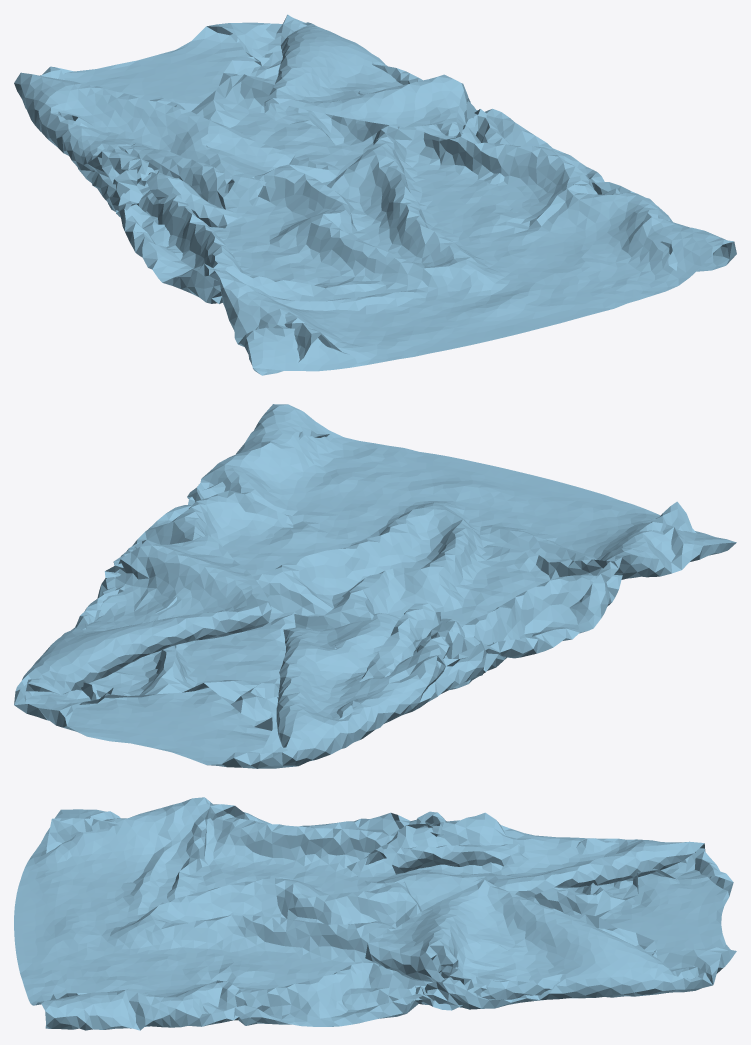
Rendered from frame_19.glb.
The picture shows the model from 3 angles, top to bottom: view 1: azimuth 30°, elevation 25°; view 2: azimuth 150°, elevation 25°; view 3: azimuth 270°, elevation 25°; orthographic projection. The views are drawn at different scales.
Visible parts, largest first — view 1: frame_19.obj; view 2: frame_19.obj; view 3: frame_19.obj.
Boxes of the visible parts, x1,y1,x2,y2 form: frame_19.obj: [14, 14, 736, 375]; frame_19.obj: [14, 404, 736, 768]; frame_19.obj: [14, 797, 736, 1030].
Bounding box in the file's own units: 1.21 × 0.1571 × 1.69.
